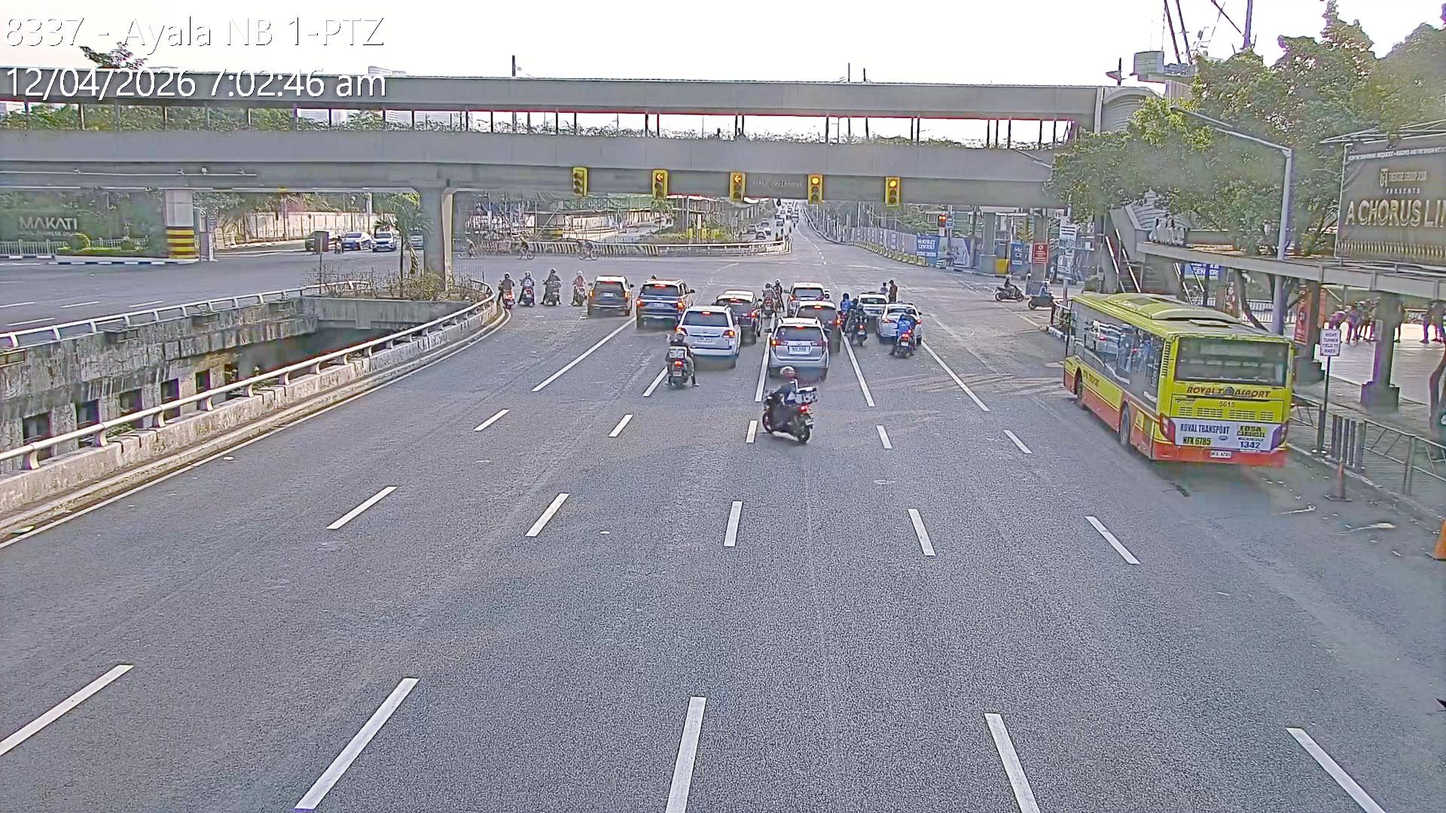Car: (765, 318, 833, 382), (673, 304, 741, 367), (633, 277, 688, 330), (711, 291, 763, 343), (791, 300, 842, 347), (586, 273, 633, 318), (876, 302, 923, 344), (786, 281, 830, 318), (853, 292, 889, 330), (304, 227, 340, 255), (339, 229, 373, 251), (369, 227, 397, 252)
Motor: (764, 364, 816, 436), (664, 332, 699, 390), (1027, 277, 1066, 310), (848, 300, 875, 347), (890, 317, 918, 356), (993, 272, 1025, 306), (836, 289, 857, 334), (540, 267, 563, 308), (569, 269, 589, 306), (758, 282, 778, 316), (769, 277, 787, 314), (520, 272, 537, 309), (499, 281, 517, 310)
Not Accident: (771, 277, 843, 387), (661, 302, 744, 385), (681, 291, 758, 367), (589, 272, 688, 328), (859, 286, 929, 365), (497, 265, 592, 315), (841, 292, 868, 351), (761, 277, 784, 318)
